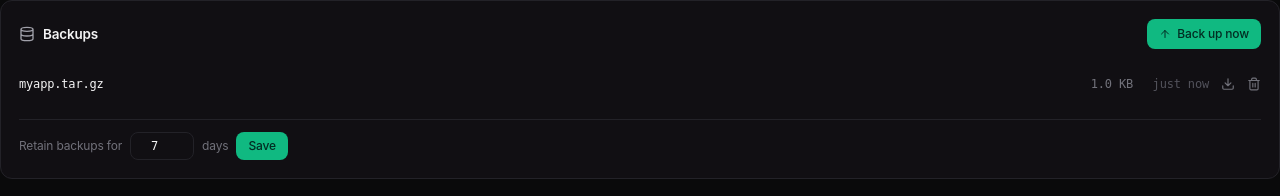
Test: BackupPanel › delete requires confirm click — first click shows Confirm?
The width and height of the screenshot is (1280, 196).
Click the button titled "Delete".
click(1254, 84)  # box [1247, 77, 1261, 91]
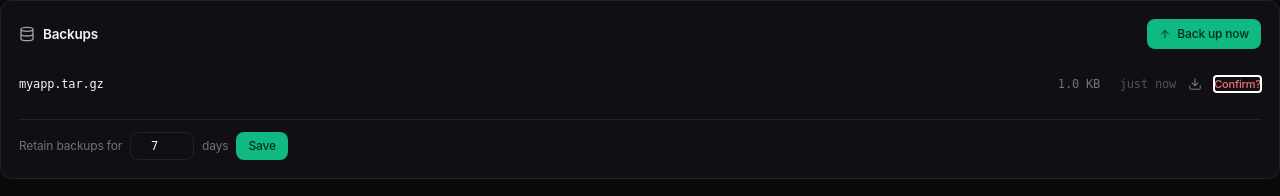
Check: the button "Confirm?" is shown, box [1214, 76, 1261, 92]
